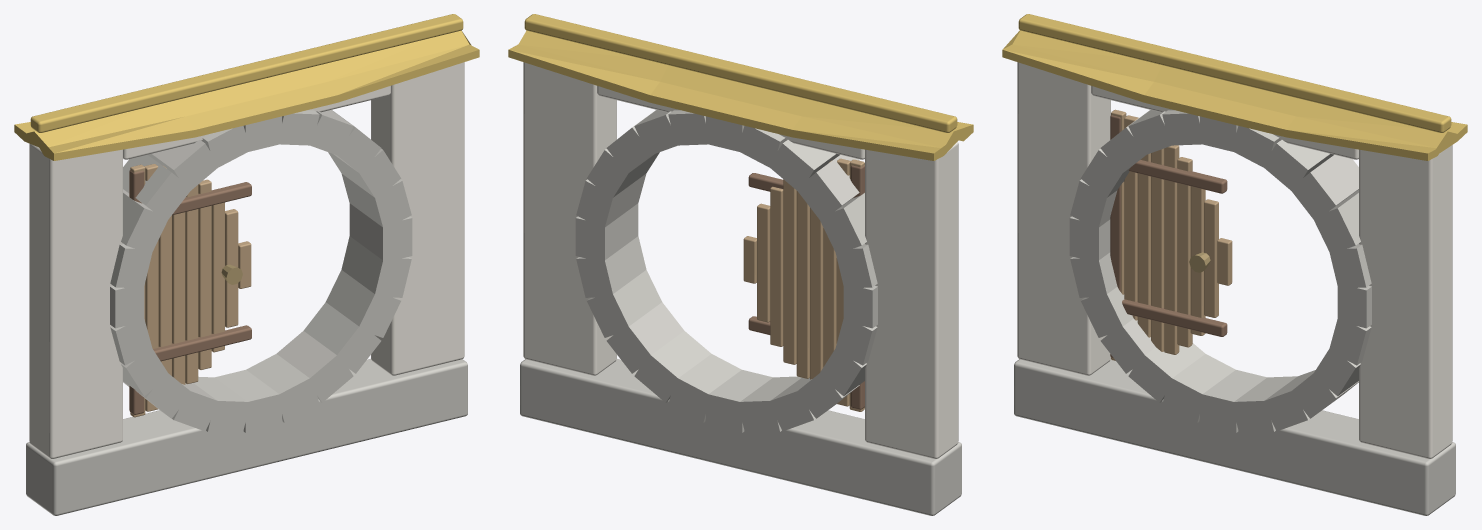
File: moon_gate.gltf
3 views of the same model, side by side, from view 1: azimuth 30°, elevation 25°; view 2: azimuth 150°, elevation 25°; view 3: azimuth 330°, elevation 25° (orthographic).
Parts seen in each view (by area): view 1: 087-palace-wall-moon-gate/0, 087-palace-wall-moon-gate/1, 087-palace-wall-moon-gate/2, 087-palace-wall-moon-gate/moon-leaf/wood, 087-palace-wall-moon-gate/moon-leaf/timber; view 2: 087-palace-wall-moon-gate/0, 087-palace-wall-moon-gate/1, 087-palace-wall-moon-gate/2, 087-palace-wall-moon-gate/moon-leaf/wood, 087-palace-wall-moon-gate/moon-leaf/timber; view 3: 087-palace-wall-moon-gate/0, 087-palace-wall-moon-gate/1, 087-palace-wall-moon-gate/2, 087-palace-wall-moon-gate/moon-leaf/wood, 087-palace-wall-moon-gate/moon-leaf/timber.
Boxes of the visible parts, bbox=[...] form: 087-palace-wall-moon-gate/0: bbox=[26, 110, 467, 515]; 087-palace-wall-moon-gate/1: bbox=[29, 62, 464, 458]; 087-palace-wall-moon-gate/2: bbox=[14, 14, 479, 160]; 087-palace-wall-moon-gate/moon-leaf/wood: bbox=[130, 164, 251, 417]; 087-palace-wall-moon-gate/moon-leaf/timber: bbox=[129, 170, 251, 414]; 087-palace-wall-moon-gate/0: bbox=[520, 110, 961, 515]; 087-palace-wall-moon-gate/1: bbox=[523, 62, 958, 458]; 087-palace-wall-moon-gate/2: bbox=[508, 14, 973, 160]; 087-palace-wall-moon-gate/moon-leaf/wood: bbox=[743, 158, 864, 411]; 087-palace-wall-moon-gate/moon-leaf/timber: bbox=[748, 165, 864, 409]; 087-palace-wall-moon-gate/0: bbox=[1014, 110, 1455, 515]; 087-palace-wall-moon-gate/1: bbox=[1017, 62, 1452, 458]; 087-palace-wall-moon-gate/2: bbox=[1002, 14, 1467, 160]; 087-palace-wall-moon-gate/moon-leaf/wood: bbox=[1111, 109, 1232, 360]; 087-palace-wall-moon-gate/moon-leaf/timber: bbox=[1110, 115, 1227, 357].
Bounding box in the file's own units: 4.1 × 3.58 × 0.6602.
